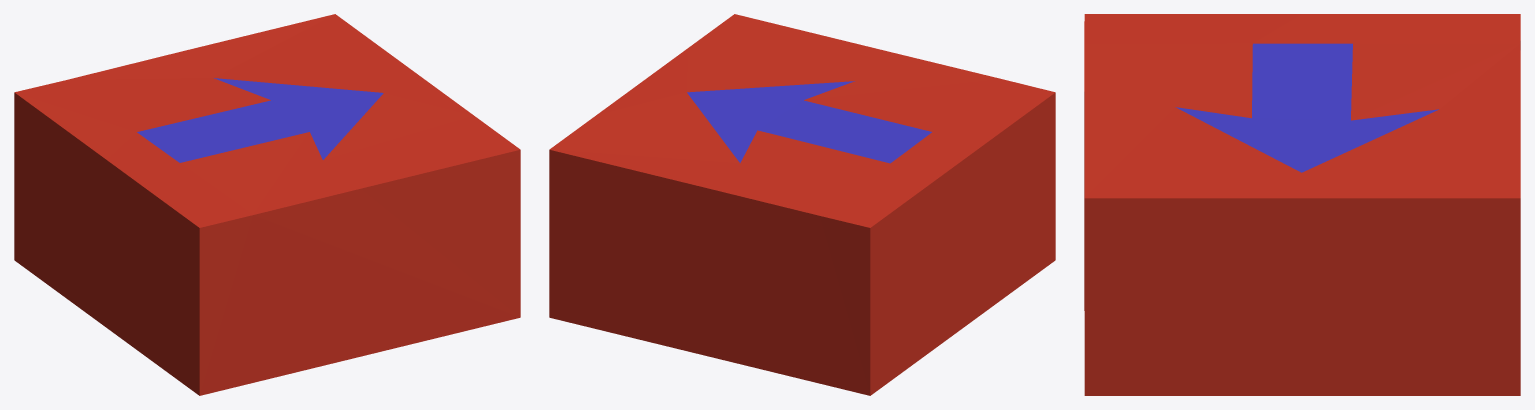
The model's file is belt.dae.
3 views of the same model, side by side, from view 1: azimuth 30°, elevation 25°; view 2: azimuth 150°, elevation 25°; view 3: azimuth 270°, elevation 25° (orthographic). The views are drawn at different scales.
Parts seen in each view (by area): view 1: Cube; view 2: Cube; view 3: Cube.
Boxes of the visible parts, x1,y1,x2,y2 form: Cube: (14,14,520,395); Cube: (549,14,1055,395); Cube: (1084,14,1520,395).
Bounding box in the file's own units: 1 × 1 × 0.5.
